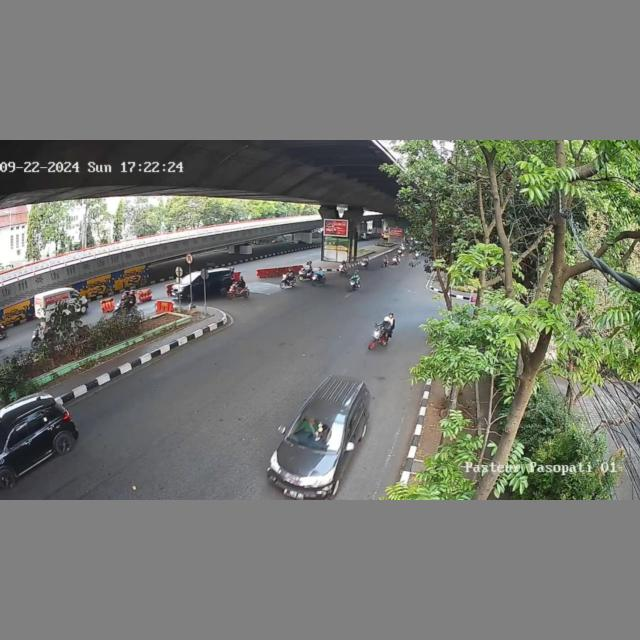windshield: (287, 415, 348, 450)
